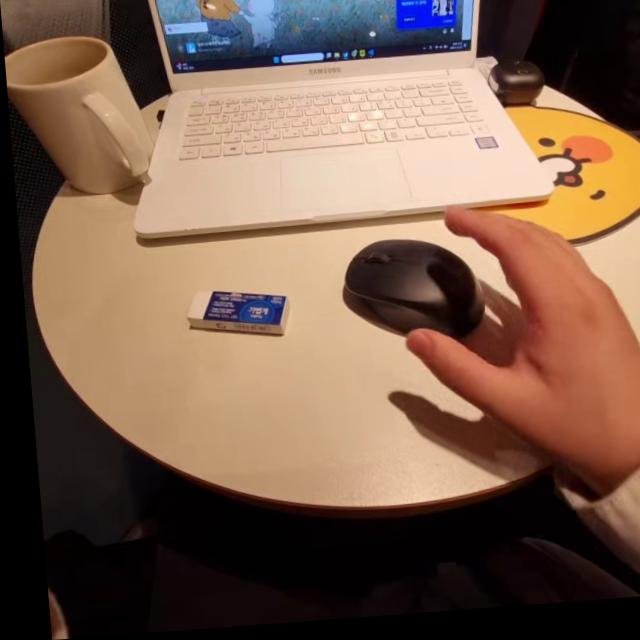eraser: (175, 280, 287, 368)
hand: (428, 187, 640, 507)
mouse: (334, 231, 480, 354)
